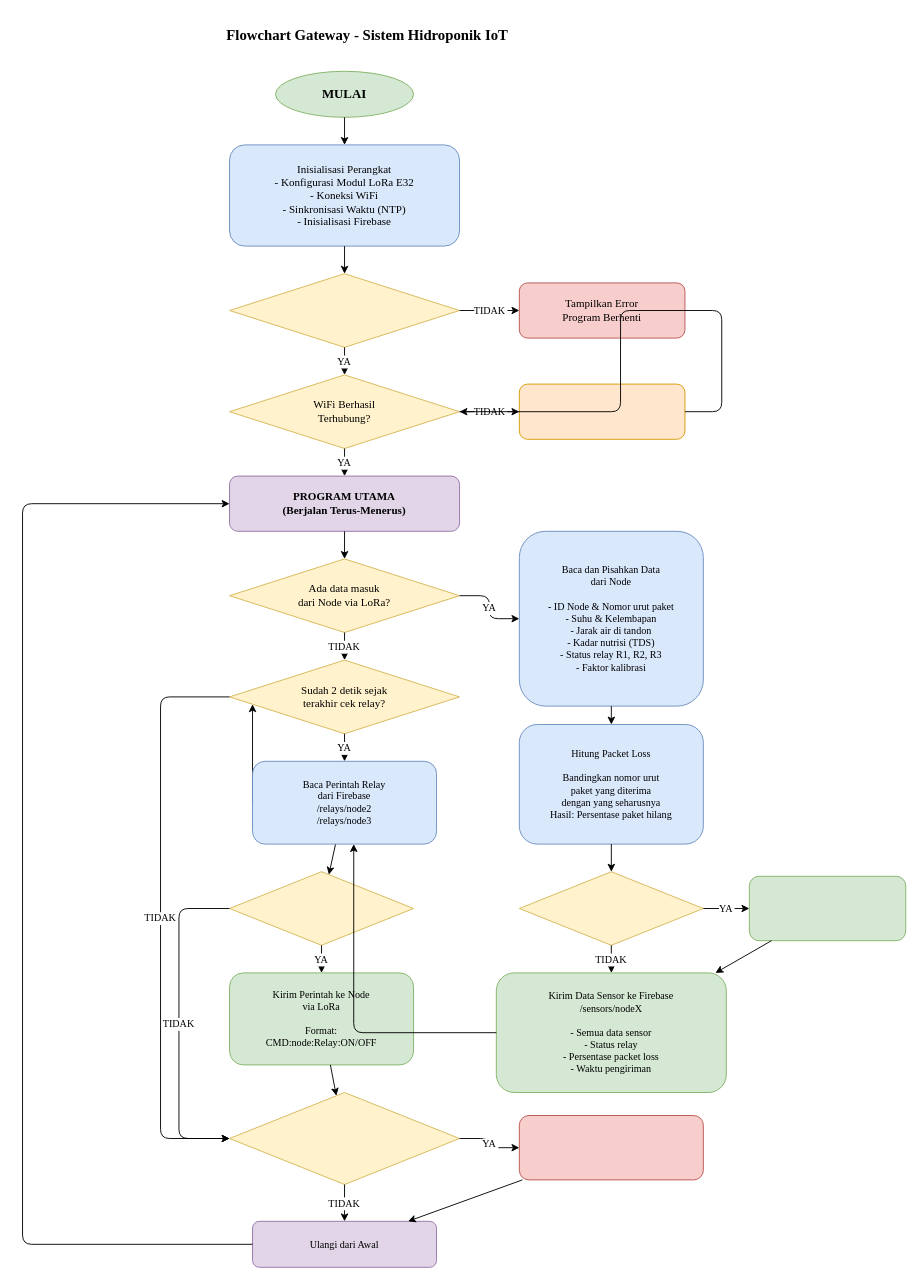
Image size: 922x1283. Some labels were removed from this diagram. Each missing label, with the centre of its shape:
"Ada perubahan perintah relay?" belongs at point (321, 908).
"Cek Status Node (setiap 5 detik) Node tidak kirim data lebih dari 30 detik?" belongs at point (344, 1138).
"Coba Reconnect WiFi (setiap 5 detik)" belongs at point (601, 411).
"LoRa Berhasil Dikonfigurasi?" belongs at point (344, 310).
"Node sebelumnya berstatus OFFLINE?" belongs at point (610, 908).
"Perbarui status Node menjadi ONLINE di Firebase" belongs at point (827, 908).
"Tandai Node OFFLINE Perbarui status di Firebase /status/nodeX = false" belongs at point (610, 1147).
